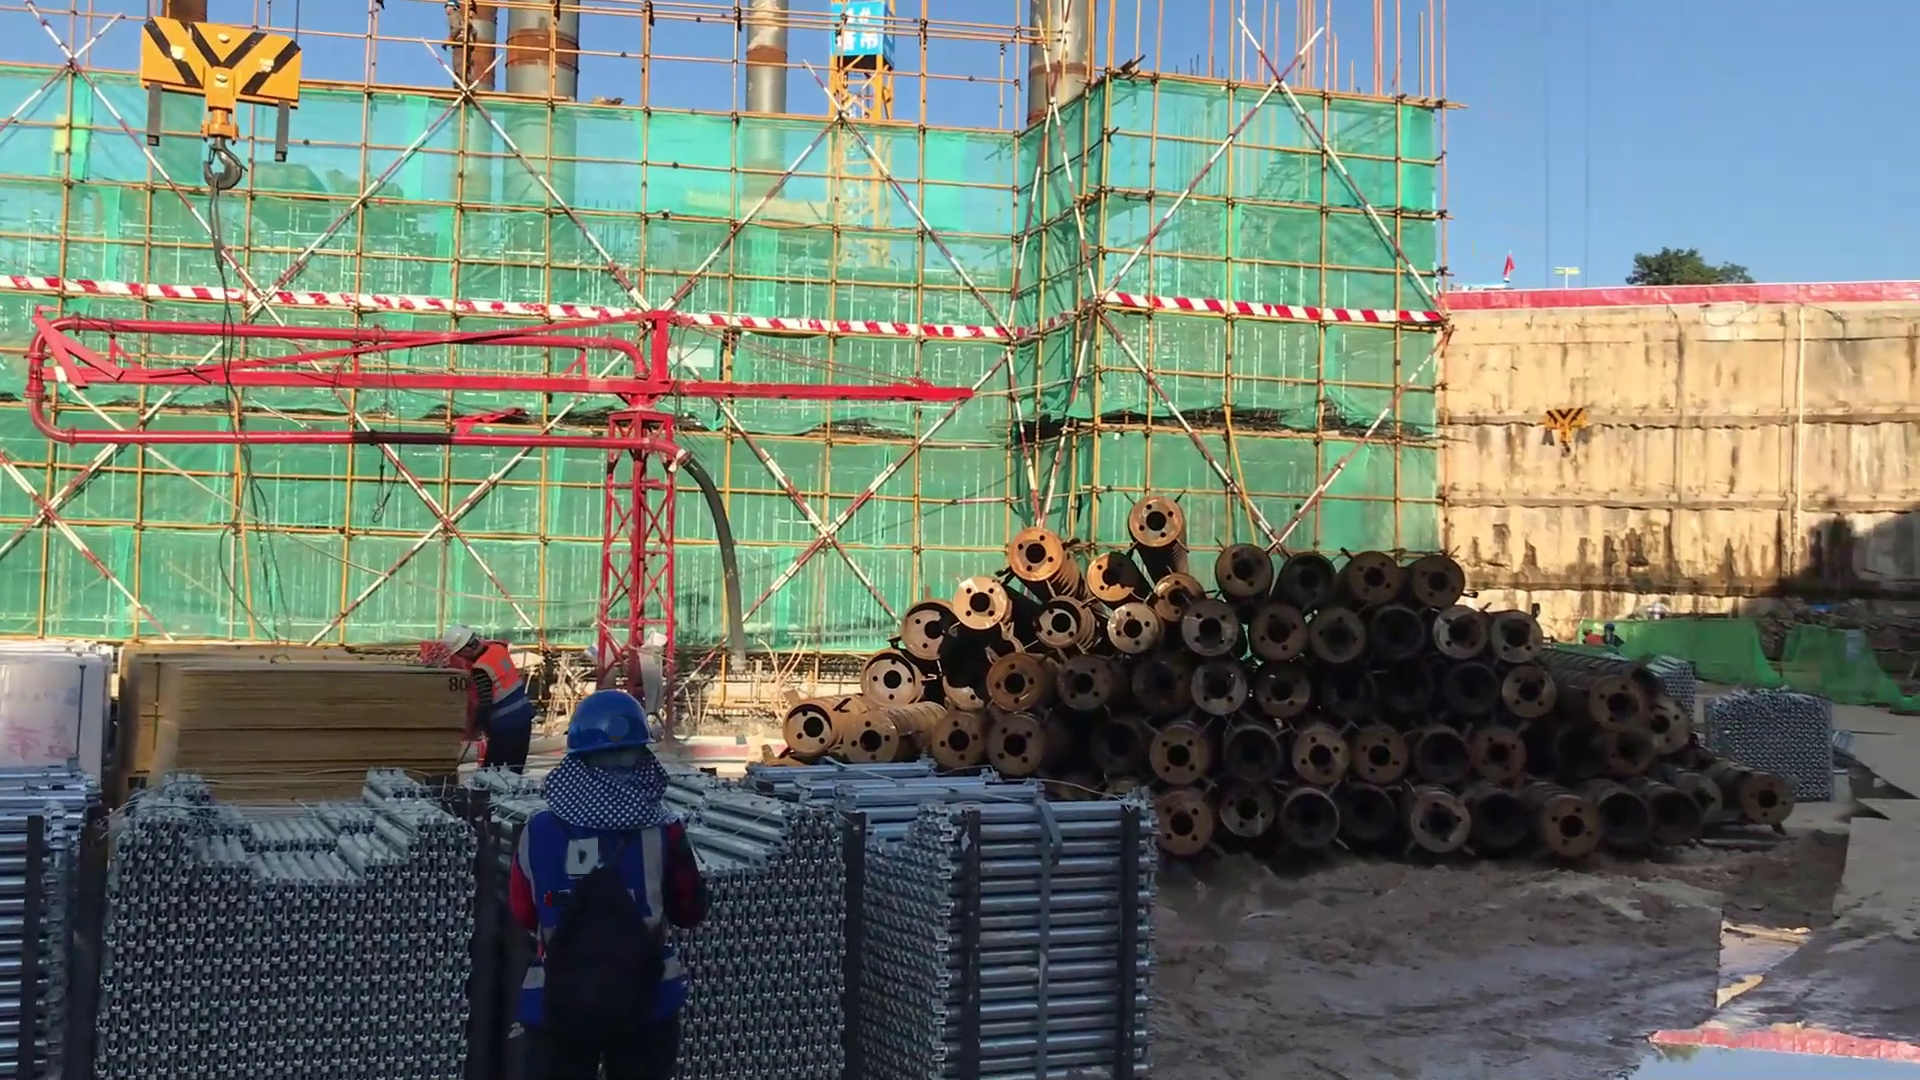board: (120, 651, 459, 797)
fence: (1427, 261, 1920, 326)
helmet: (557, 691, 665, 759), (443, 619, 476, 658), (443, 1, 466, 20)
hook: (101, 9, 323, 216)
person: (504, 687, 706, 1080), (436, 620, 544, 785), (437, 1, 486, 94)
scaffold: (687, 746, 1175, 1063), (90, 766, 486, 1080), (1, 787, 97, 1074)
slogan: (830, 1, 893, 60)
vest: (519, 800, 685, 977), (469, 634, 531, 727)
